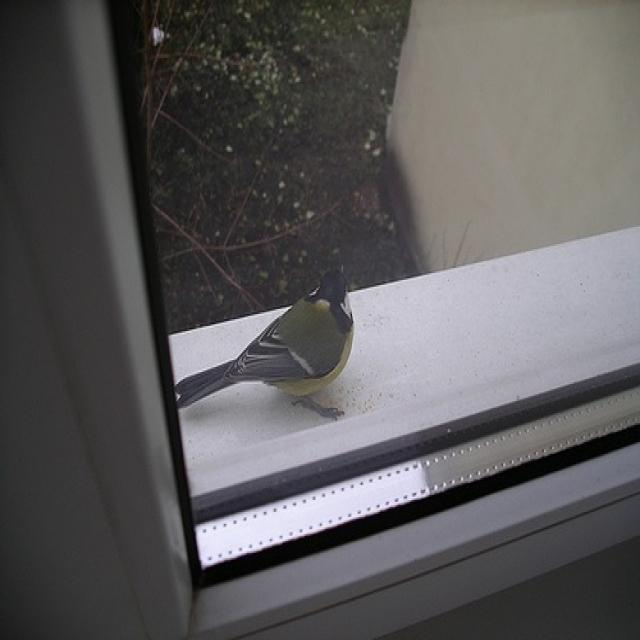bird: (168, 264, 357, 422)
